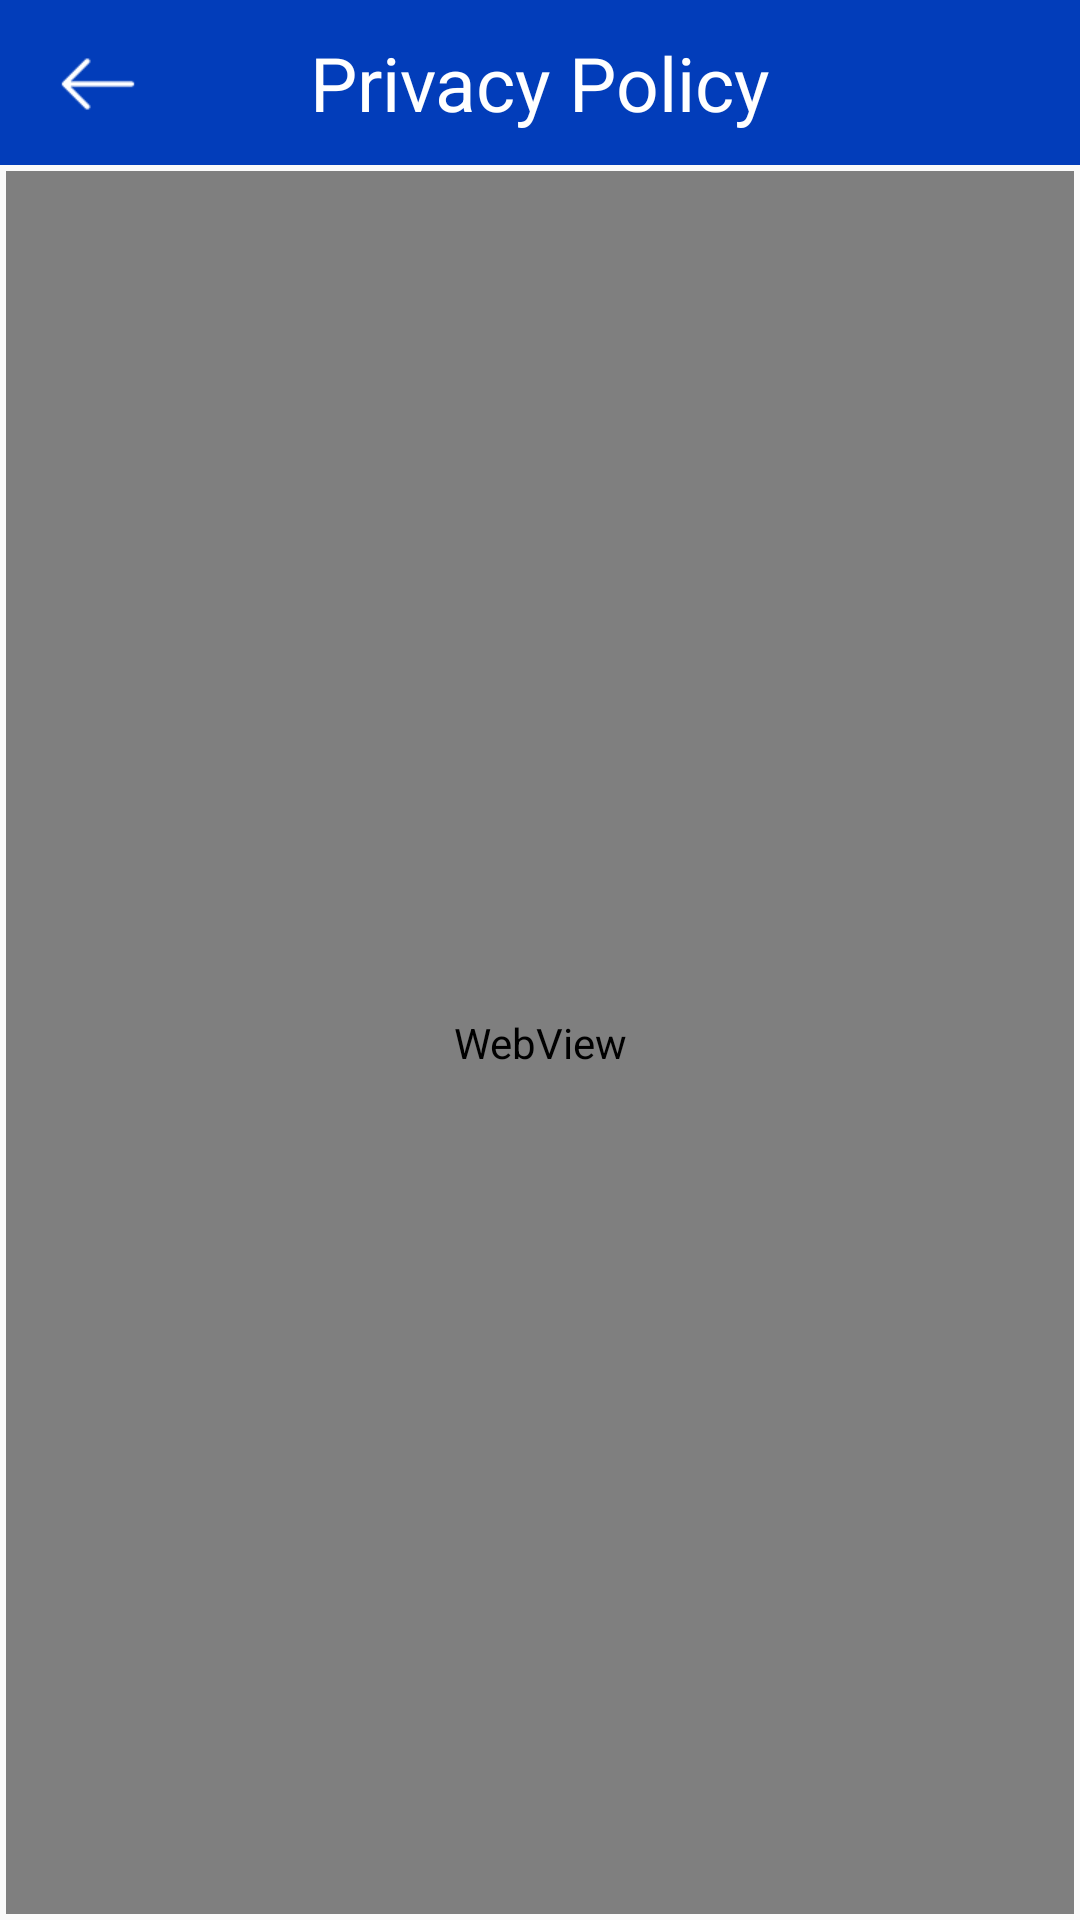

Point at icon controls on the screen. Image size 1080×1920, points as point (x, y).
back: point (98, 84)
